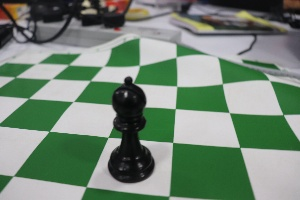black_bishop: (102, 65, 161, 186)
